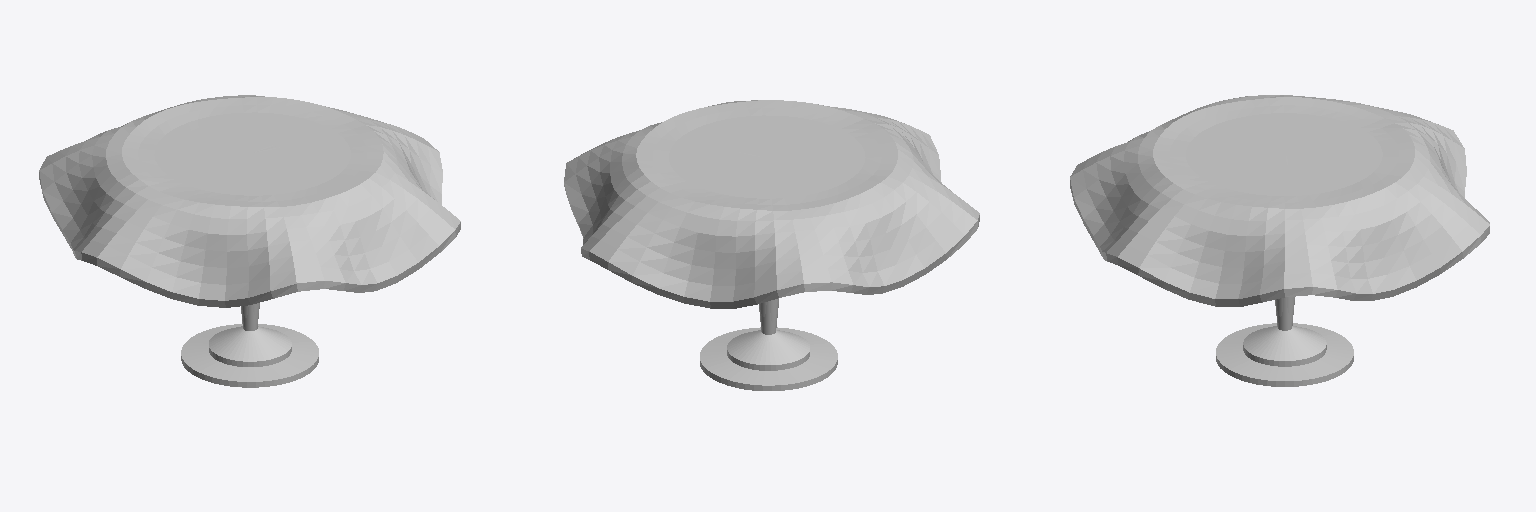
The model's file is table with cloooths.obj.
The picture shows the model from 3 angles: view 1: azimuth 30°, elevation 25°; view 2: azimuth 150°, elevation 25°; view 3: azimuth 270°, elevation 25°; orthographic projection.
Parts seen in each view (by area): view 1: pCylinder2, pCylinder1; view 2: pCylinder2, pCylinder1; view 3: pCylinder2, pCylinder1.
Part boxes in pixels (left/top/right/bottom): pCylinder2: left=39, top=95, right=460, bottom=307; pCylinder1: left=181, top=303, right=318, bottom=387; pCylinder2: left=564, top=100, right=979, bottom=308; pCylinder1: left=700, top=298, right=837, bottom=390; pCylinder2: left=1070, top=95, right=1489, bottom=306; pCylinder1: left=1216, top=297, right=1353, bottom=386.
Bounding box in the file's own units: 12.13 × 6.45 × 11.89.